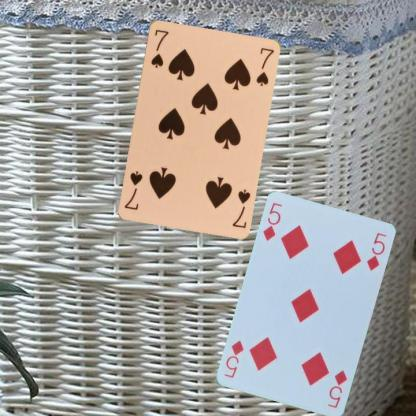5d: (325, 367, 348, 410), (261, 201, 283, 243)
7s: (148, 26, 170, 69), (230, 186, 252, 229)
